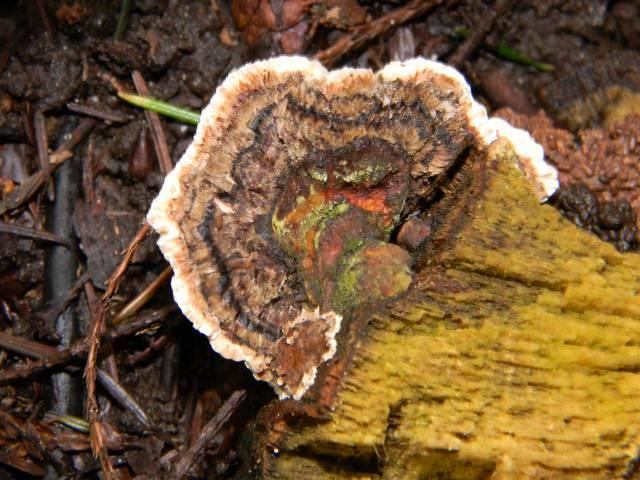Non-edible Mushroom: (144, 52, 558, 406)
